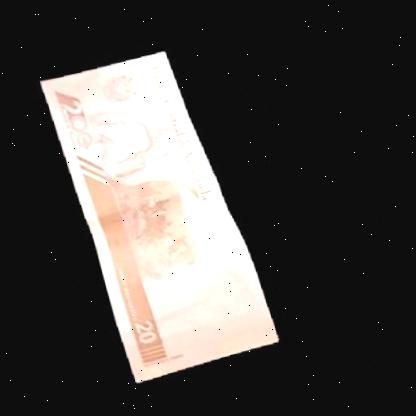twenty-back-vef: (34, 41, 281, 389)
